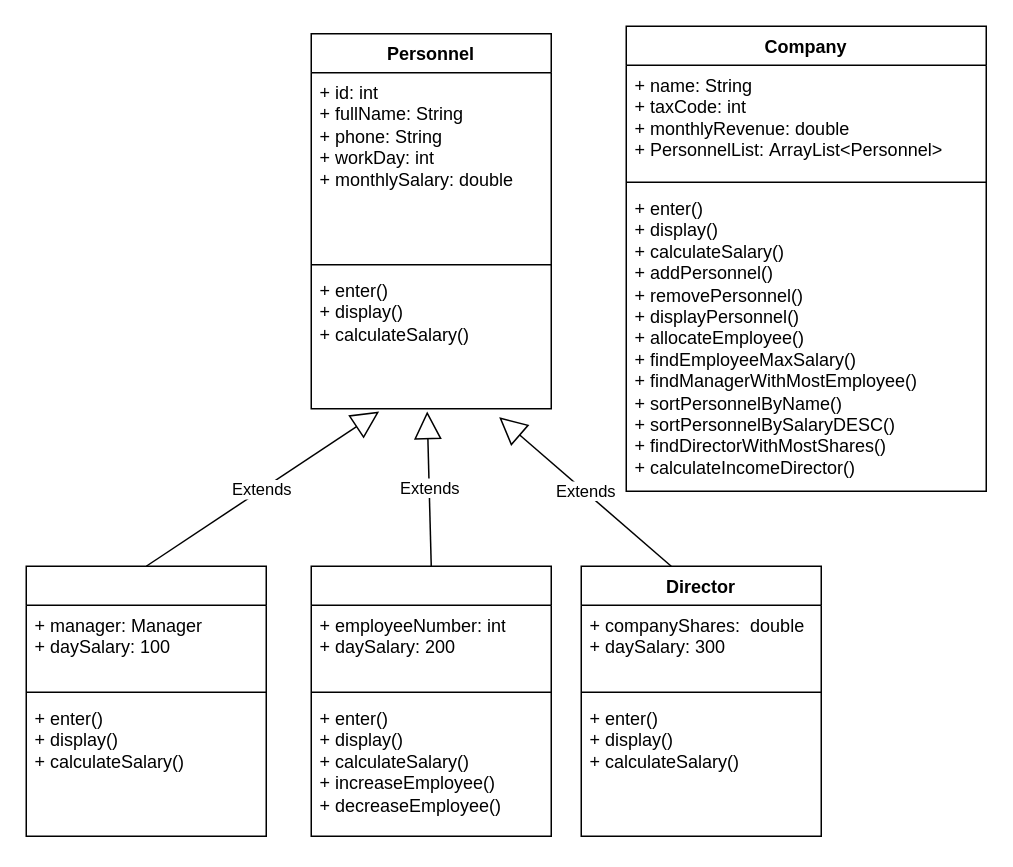
The diagram is 1013 pixels wide and 867 high, and some of its shapes have lost their labels. The box of each missing label's shape, as (x1, y1, x2, y2) in pixels:
Employee: (25, 565, 266, 836)
Manager: (310, 565, 551, 836)
